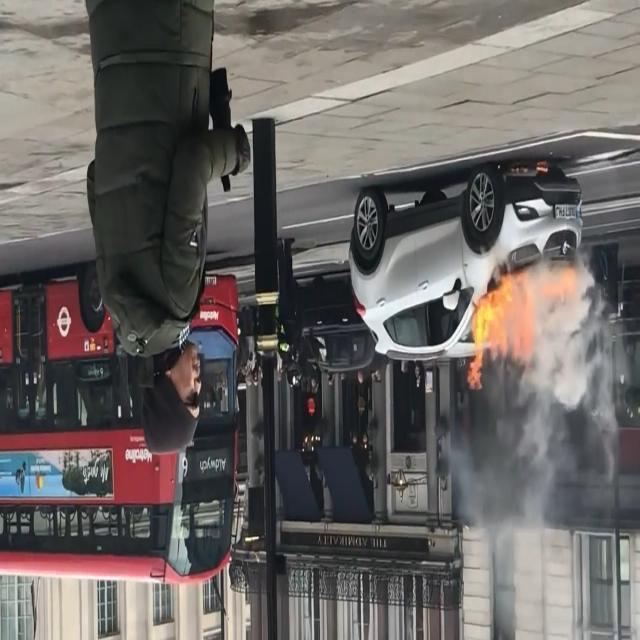fire: (467, 266, 582, 396)
